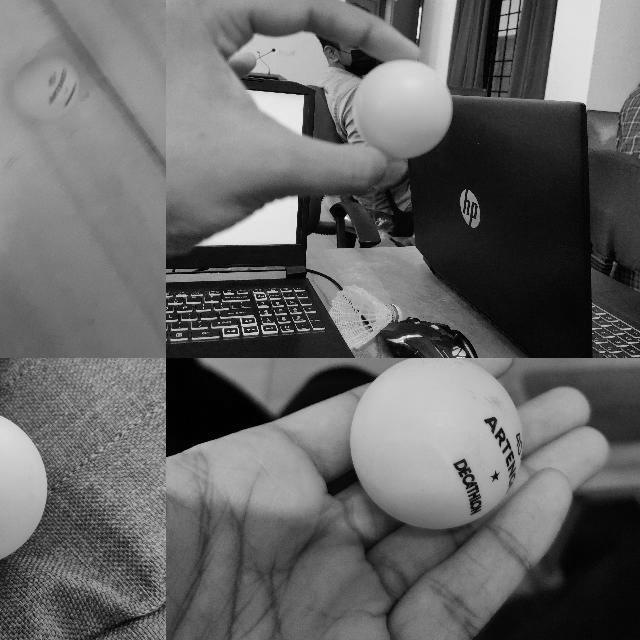ping-pong-ball: (347, 358, 523, 526), (353, 61, 453, 157), (0, 409, 48, 563), (14, 55, 78, 119)
